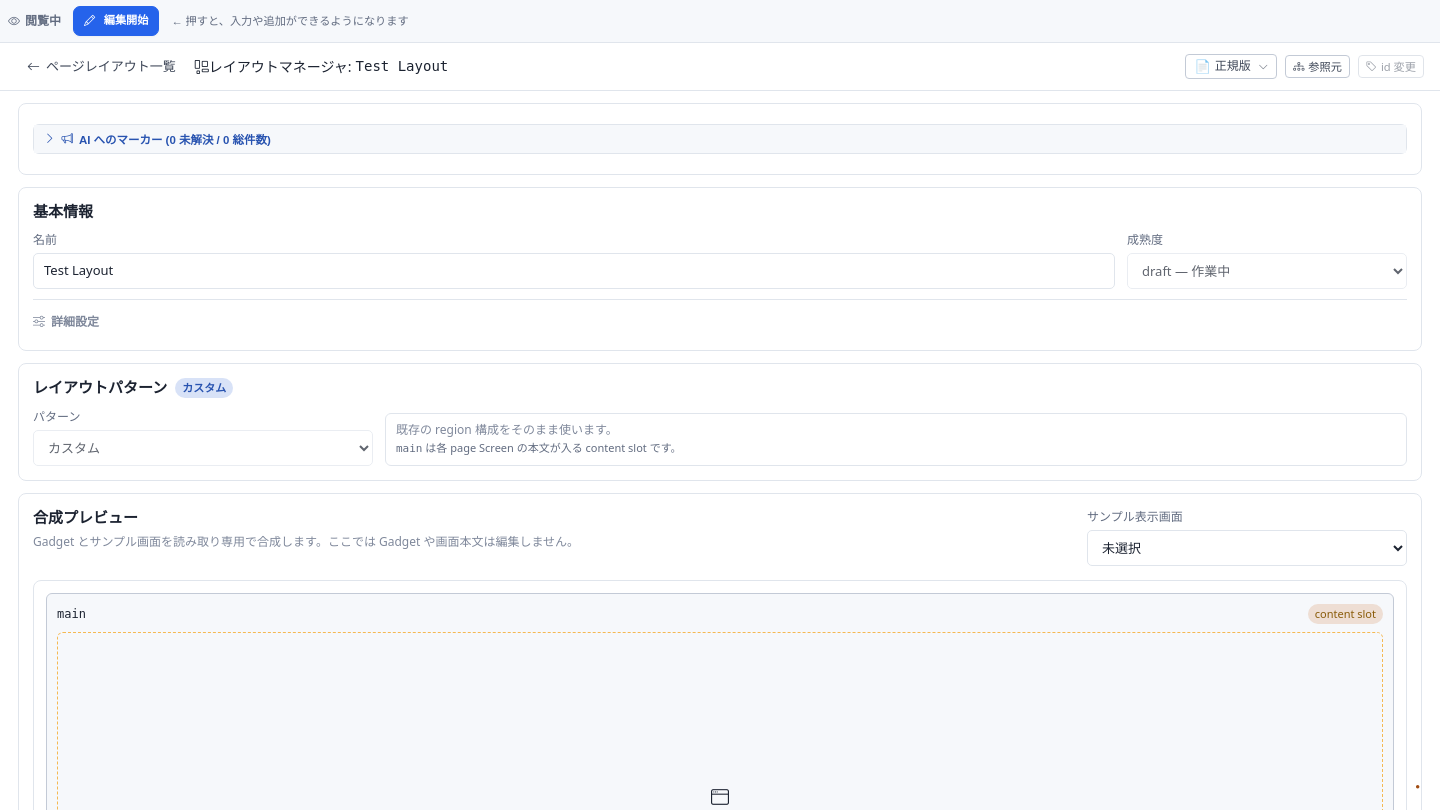
Scenario: PageLayoutEditor › clears preview loading when selected preview ids become empty
Select "Dashboard" in the dropdown with test id "page-layout-sample-page-select": (1247, 548) [1087,530,1407,566]
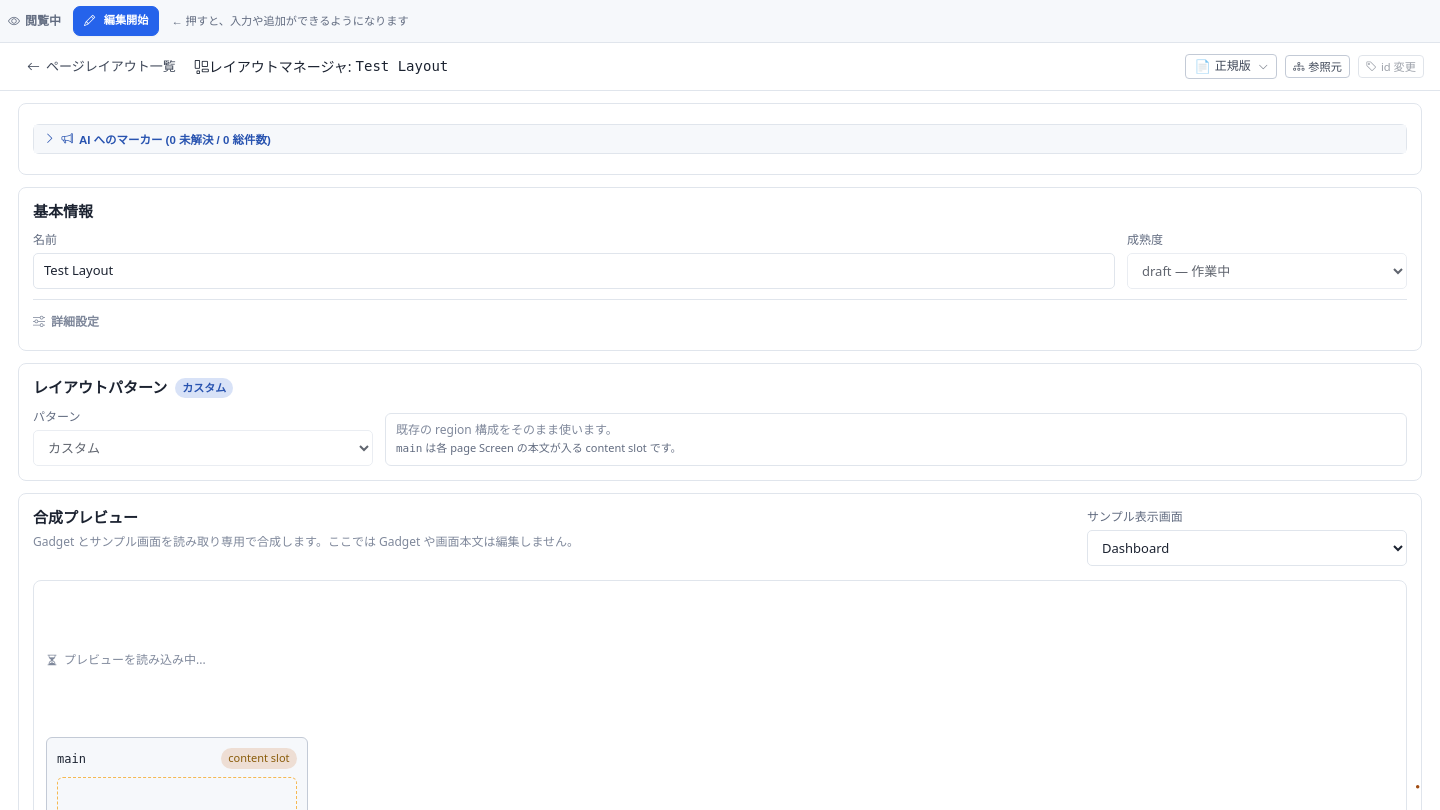
Check: the text "プレビューを読み込み中..." is shown, box [46,651,206,669]
Select "未選択" in the dropdown with test id "page-layout-sample-page-select": (1247, 548) [1087,530,1407,566]
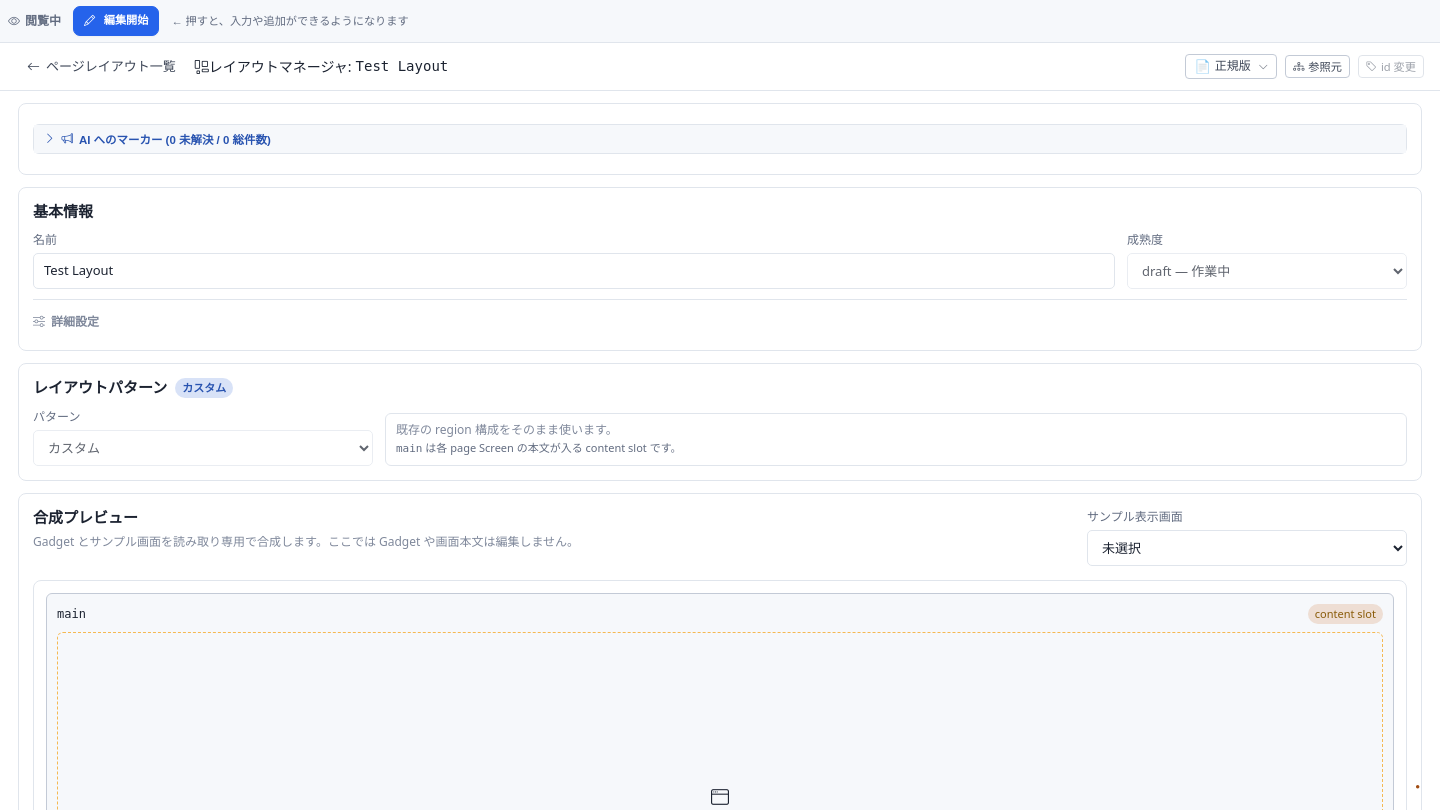
Check: the text "プレビューを読み込み中" is gone
